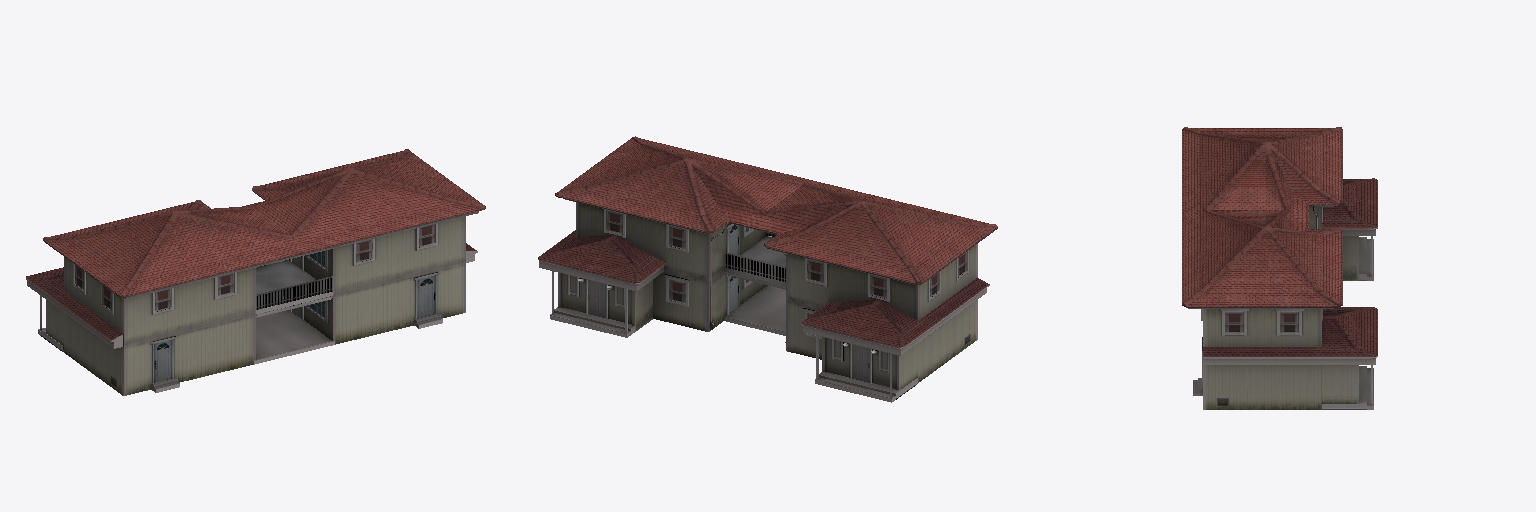
3 views of the same model, side by side, from view 1: azimuth 30°, elevation 25°; view 2: azimuth 150°, elevation 25°; view 3: azimuth 270°, elevation 25° (orthographic).
Parts seen in each view (by area): view 1: City_building_026.001; view 2: City_building_026.001; view 3: City_building_026.001.
Part boxes in pixels (x1,y1,x2,y2): City_building_026.001: (26, 149, 485, 395); City_building_026.001: (538, 136, 997, 402); City_building_026.001: (1182, 127, 1377, 409).
Size of the model in its own units: 4.52 by 1.66 by 2.09.
Materials: 1 (1 with a texture image).